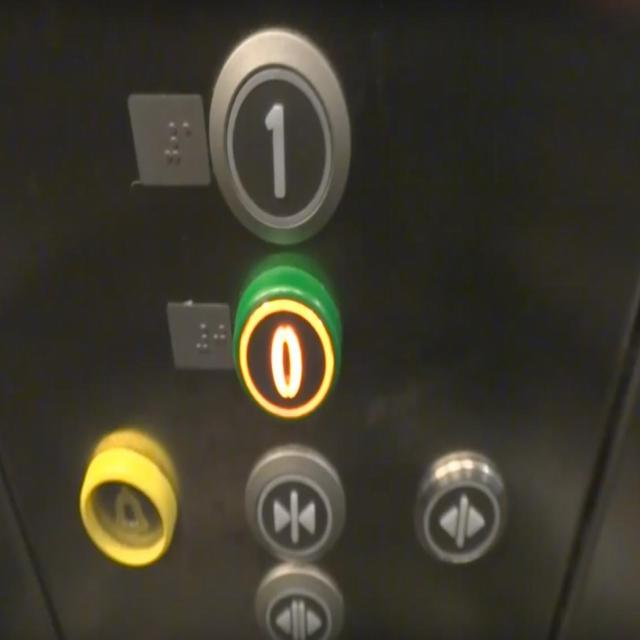0: (229, 263, 345, 423)
1: (208, 27, 352, 247)
alarm: (78, 446, 179, 570)
close: (244, 442, 346, 563)
open: (411, 450, 507, 564), (252, 560, 344, 640)
